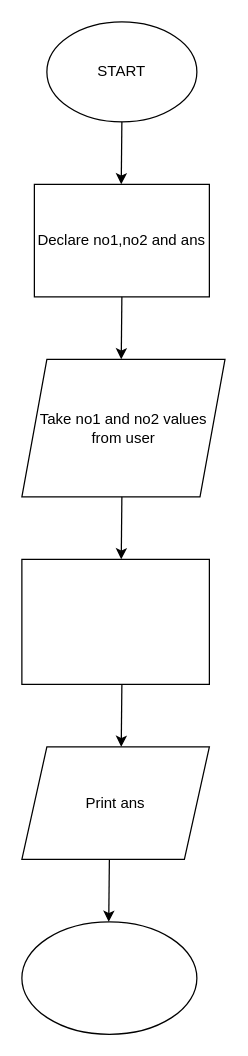
Image size: 248x1056. Some labels were removed from this diagram. The box of each missing label's shape, as (x1, y1, x2, y2) in pixels:
ans = no1 + no2: (21, 558, 209, 684)
STOP: (21, 921, 197, 1034)
